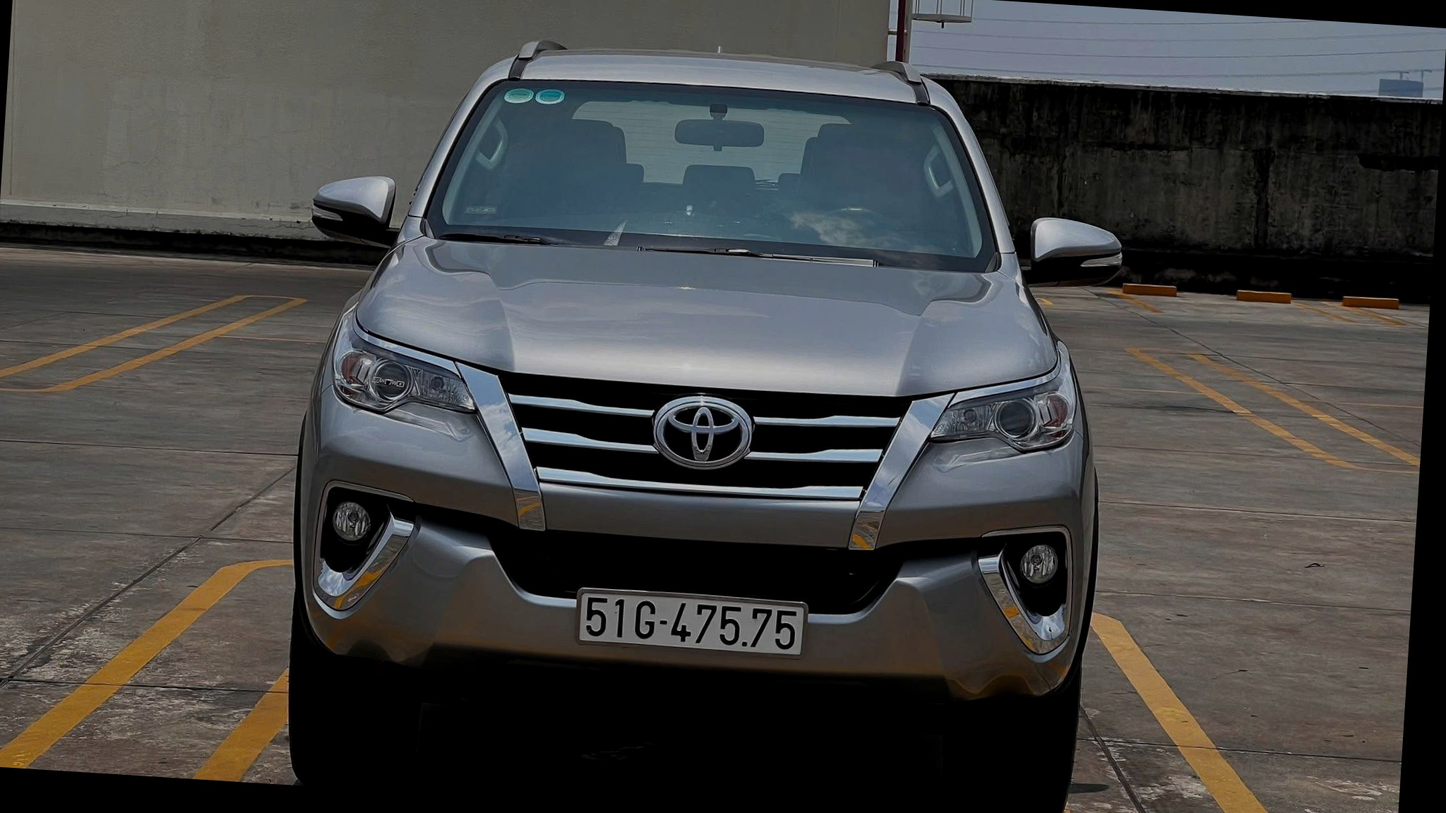Bien-so: (608, 600, 840, 649)
